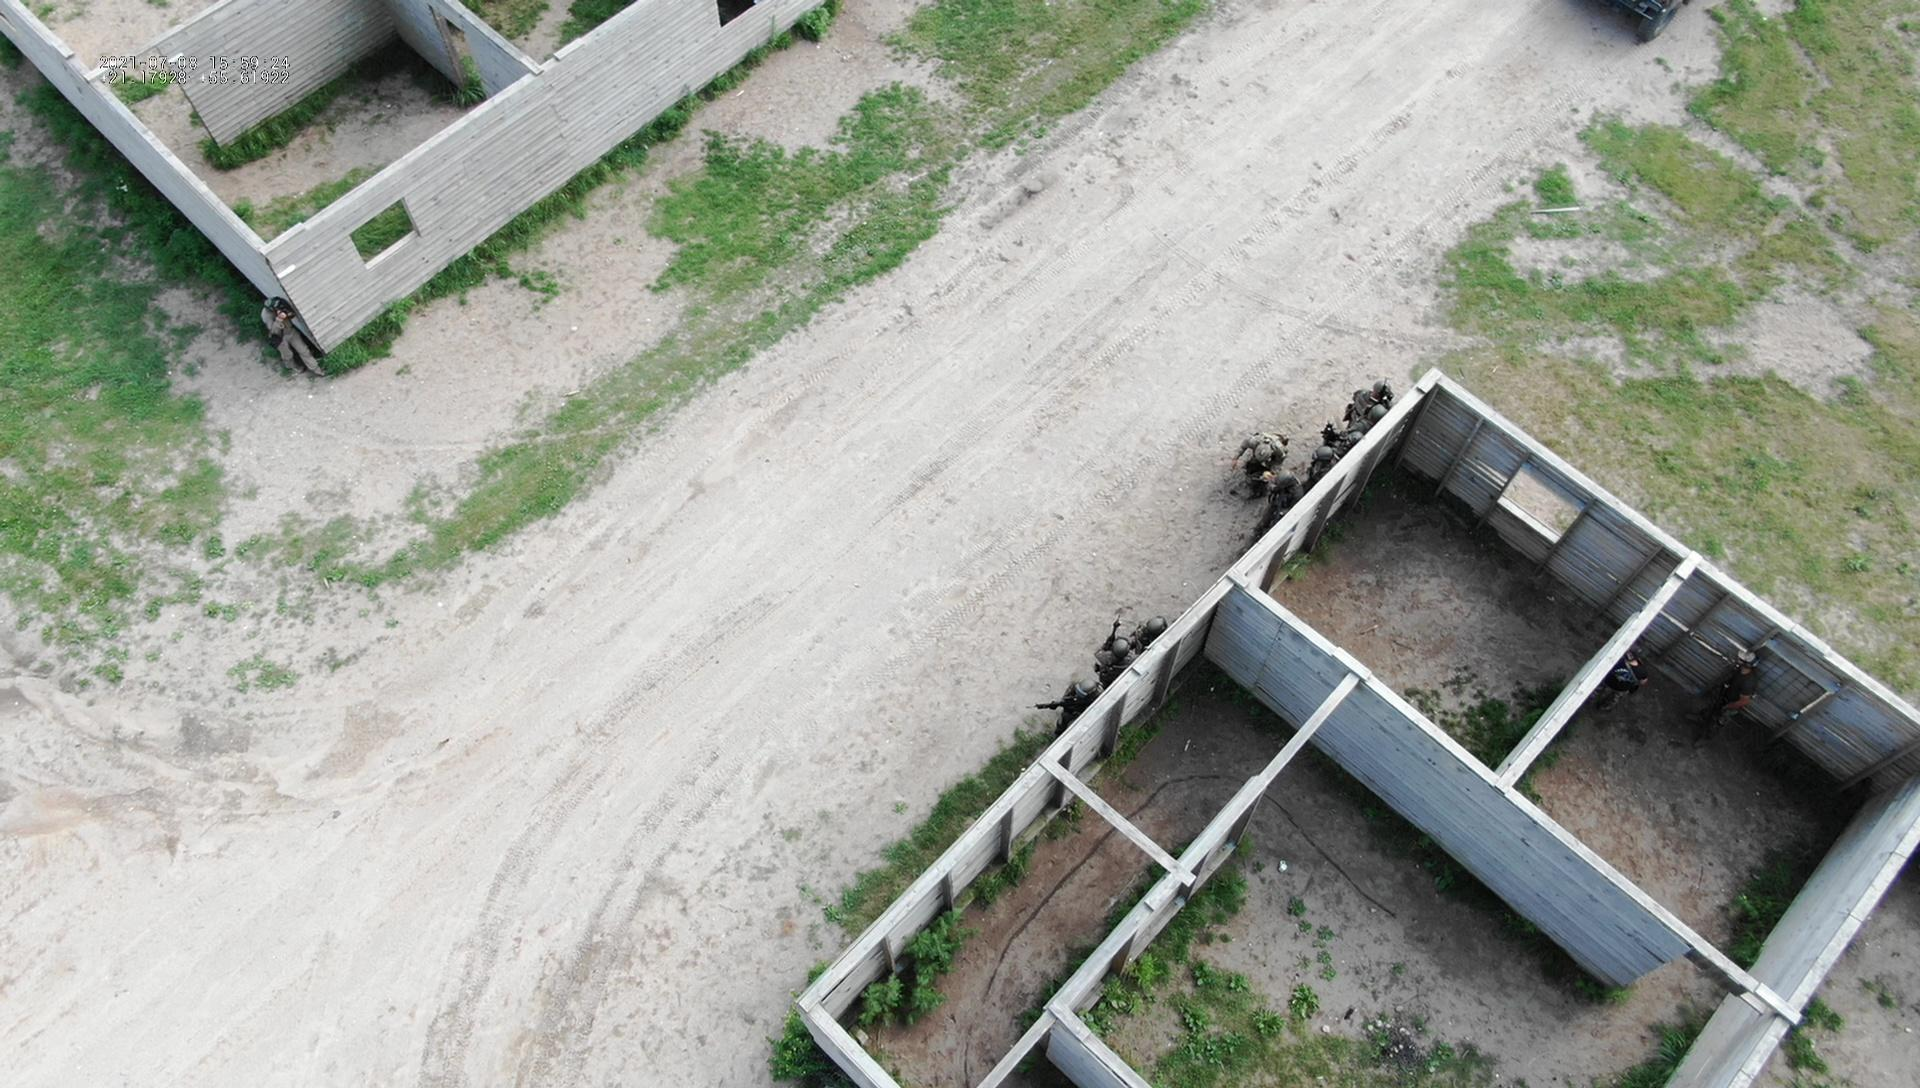Soldier: (1712, 640, 1764, 753), (1233, 422, 1298, 485), (1033, 671, 1100, 725), (1085, 604, 1134, 675), (1345, 375, 1396, 433), (1135, 597, 1170, 655), (1295, 438, 1336, 479)
